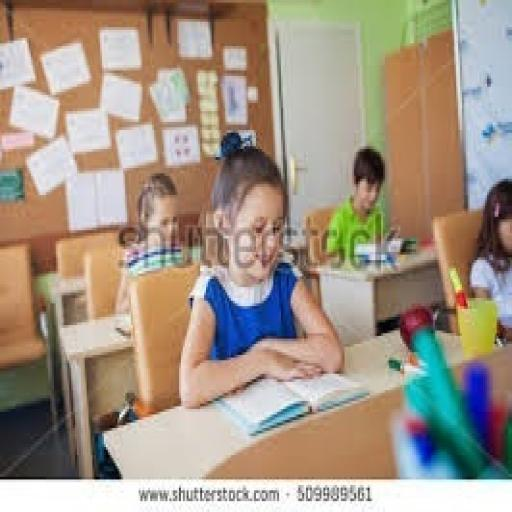sitting: (177, 127, 345, 409), (112, 171, 190, 317), (323, 144, 391, 266), (468, 176, 510, 339)
